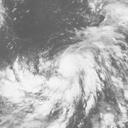cyclone: (55, 51, 85, 80)
